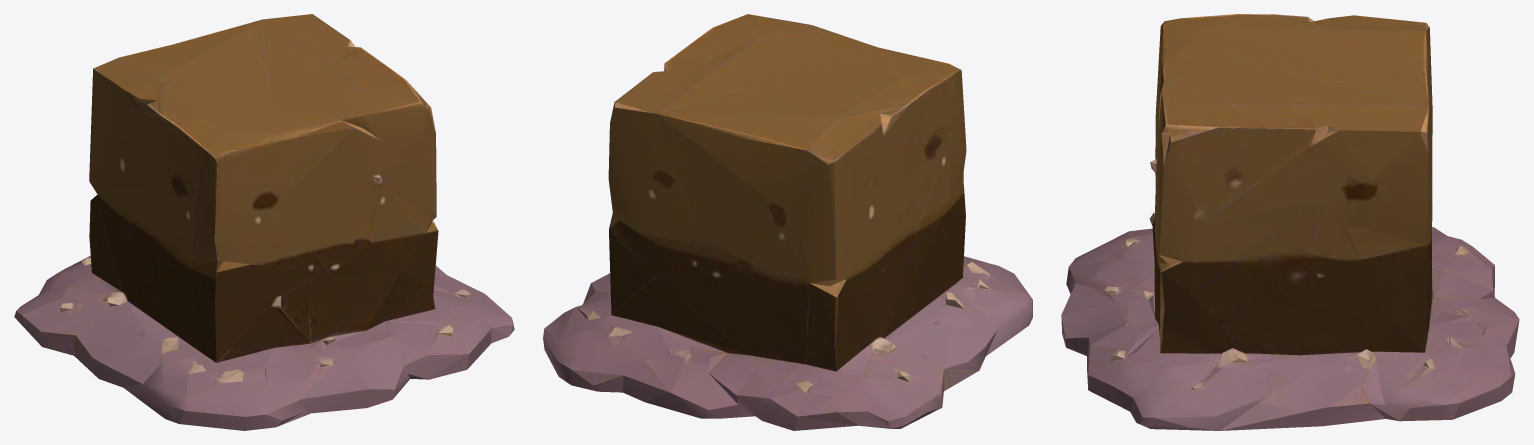
Rendered from block_ground_fill.glb.
3 renders of one model, left to right at view 1: azimuth 30°, elevation 25°; view 2: azimuth 150°, elevation 25°; view 3: azimuth 270°, elevation 25°, orthographic. The views are drawn at different scales.
Size of the model in its own units: 1.9 by 1.2 by 1.87.
1 material, 1 textured.
